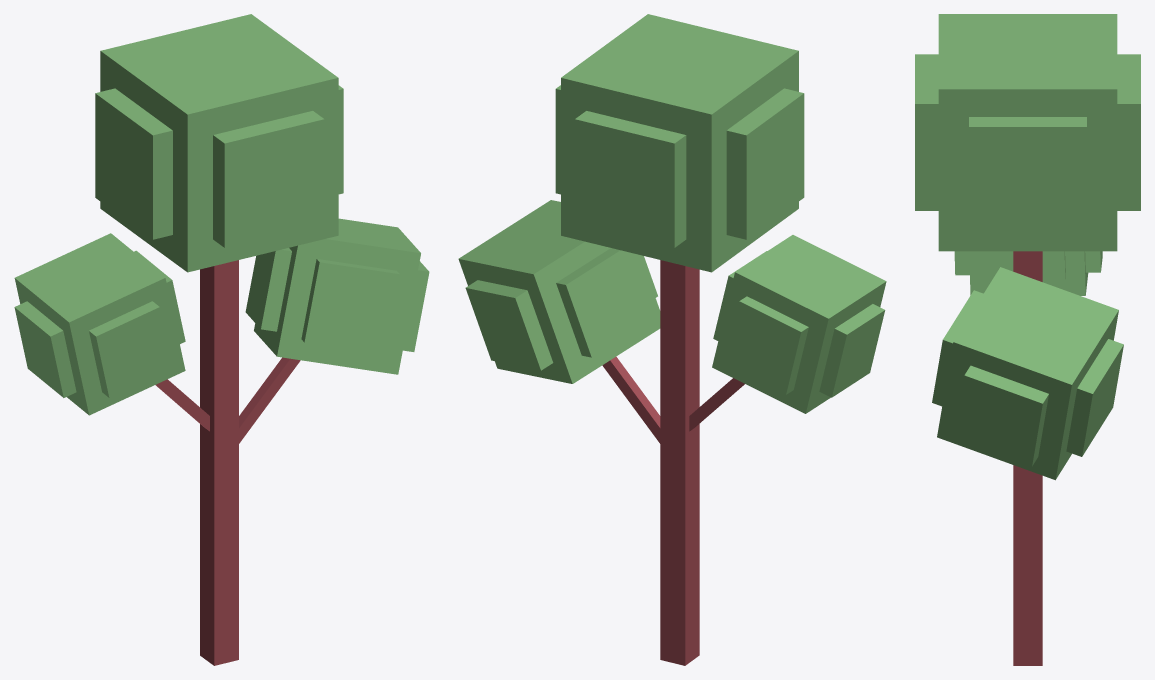
The model's file is Tree.glb.
3 renders of one model, left to right at view 1: azimuth 30°, elevation 25°; view 2: azimuth 150°, elevation 25°; view 3: azimuth 270°, elevation 25°, orthographic. The views are drawn at different scales.
Visible parts, largest first — view 1: Cube.001, Cube.003, Cube.005, Cube, Cube.004, Cube.002; view 2: Cube.001, Cube.005, Cube.003, Cube, Cube.004, Cube.002; view 3: Cube.001, Cube.005, Cube, Cube.003.
Boxes of the visible parts, left/top/right/bottom form: Cube.001: left=95, top=14, right=343, bottom=272; Cube.003: left=14, top=233, right=185, bottom=415; Cube.005: left=245, top=218, right=429, bottom=374; Cube: left=200, top=260, right=238, bottom=665; Cube.004: left=239, top=357, right=300, bottom=443; Cube.002: left=155, top=379, right=209, bottom=431; Cube.001: left=555, top=14, right=804, bottom=272; Cube.005: left=458, top=200, right=660, bottom=383; Cube.003: left=712, top=235, right=886, bottom=413; Cube: left=660, top=260, right=699, bottom=665; Cube.004: left=602, top=356, right=660, bottom=443; Cube.002: left=689, top=378, right=744, bottom=431; Cube.001: left=915, top=14, right=1140, bottom=251; Cube.005: left=932, top=267, right=1123, bottom=480; Cube: left=1013, top=251, right=1042, bottom=665; Cube.003: left=954, top=251, right=1102, bottom=295.
Size of the model in its own units: 10.76 by 15.68 by 5.28.
Materials: 1 (1 with a texture image).
